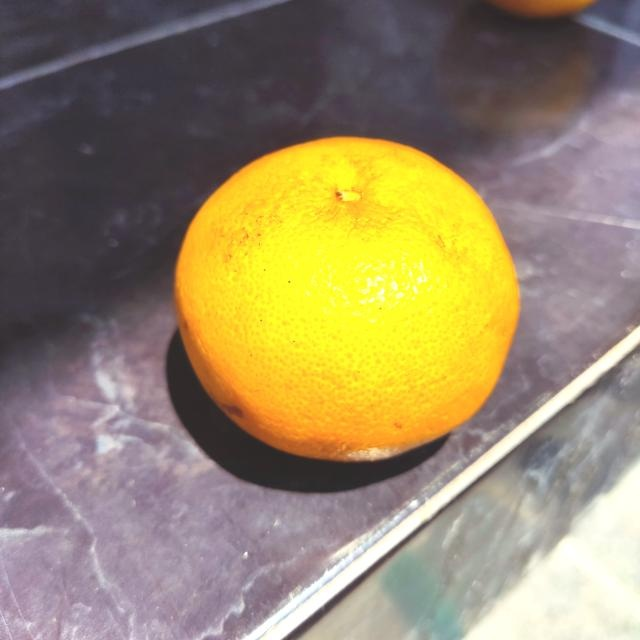agrume: (168, 131, 527, 465)
